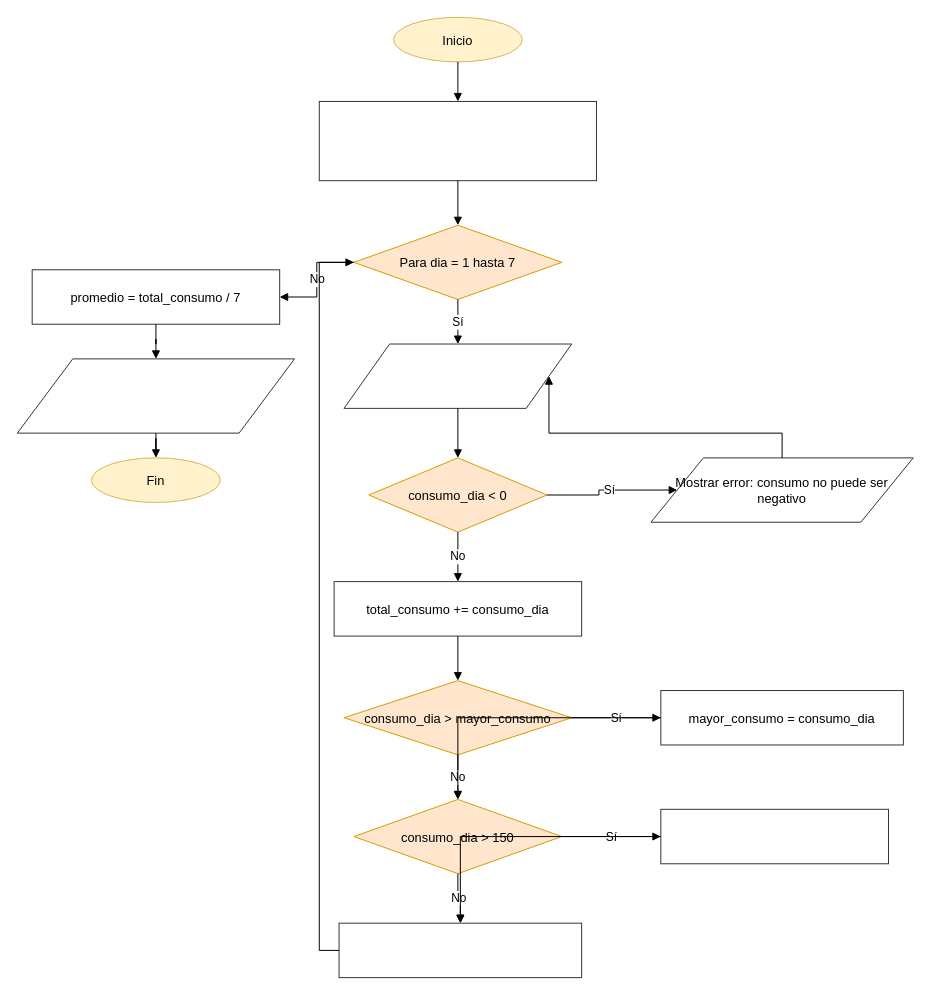
Image size: 931x995. Some labels were removed from this diagram. The centre of each missing label's shape, as x and y in pixels:
"Continuar con el siguiente día" belongs at (x=460, y=950).
"dias_mayores_150 += 1" belongs at (x=774, y=836).
"Leer consumo_dia (litros)" belongs at (x=457, y=375).
"Mostrar total_consumo, promedio, mayor_consumo y dias_mayores_150" belongs at (x=155, y=395).
"total_consumo = 0 mayor_consumo = 0 dias_mayores_150 = 0" belongs at (x=457, y=140).
